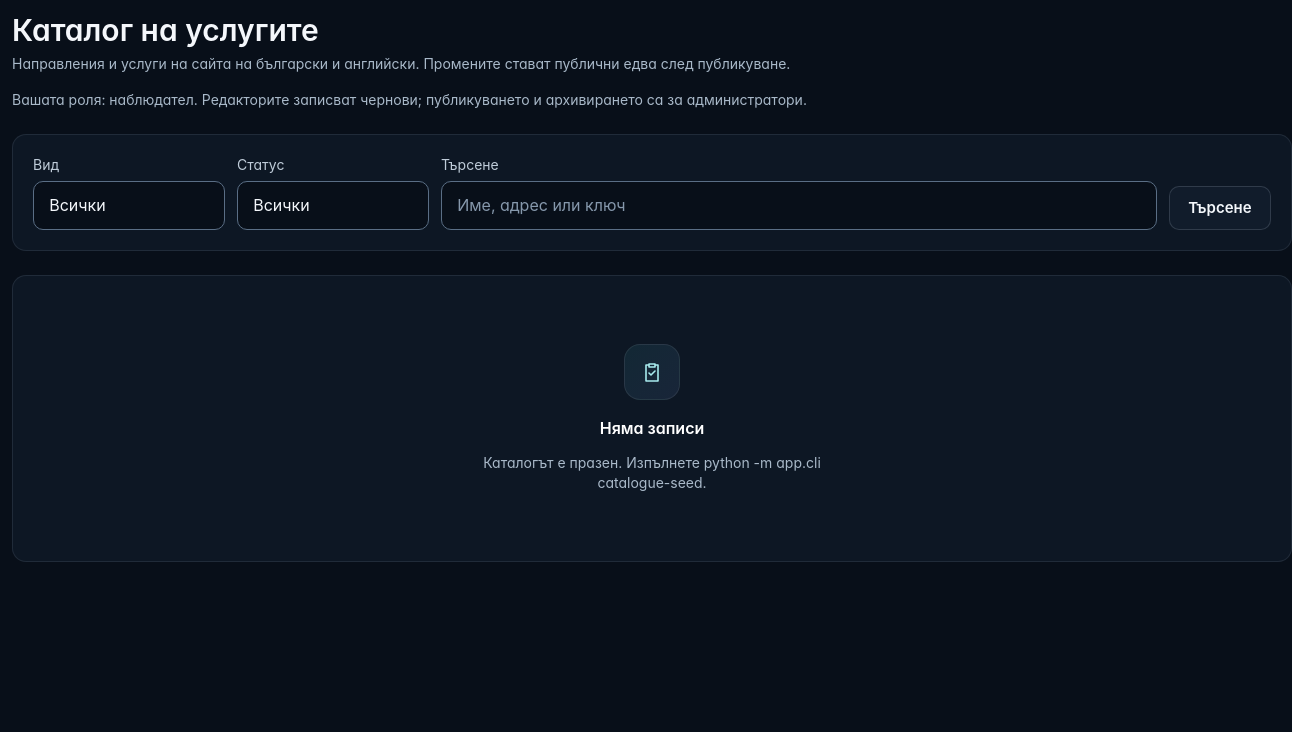
Test case: catalogue list › sends filters to the API and shows an empty state
Check: the text "Няма записи" is shown, box top-left (600, 416), bottom-right (704, 441)
Select "Работна среща" in the dropdown labelled "Вид" at point(129, 205), box top-left (33, 181), bottom-right (225, 230)
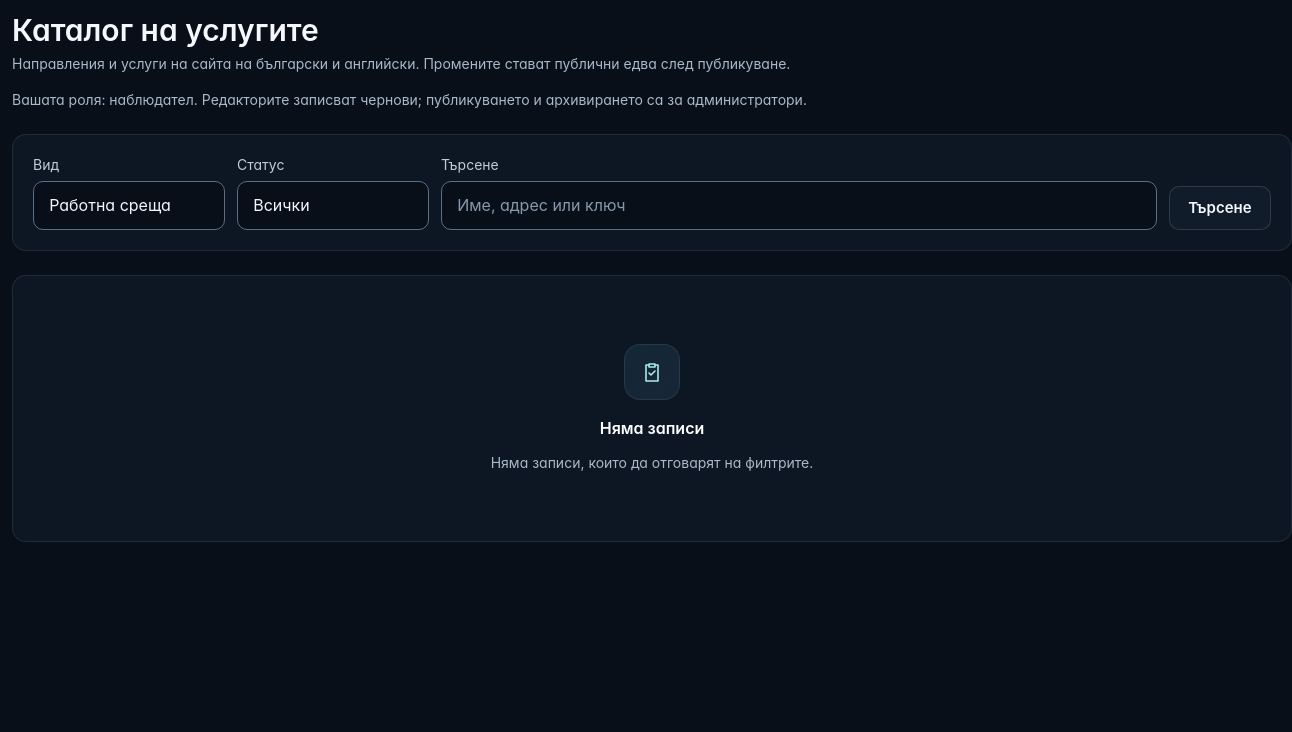
Check: the text "Няма записи, които да отговарят на филтрите." is shown, box top-left (491, 453), bottom-right (813, 473)
